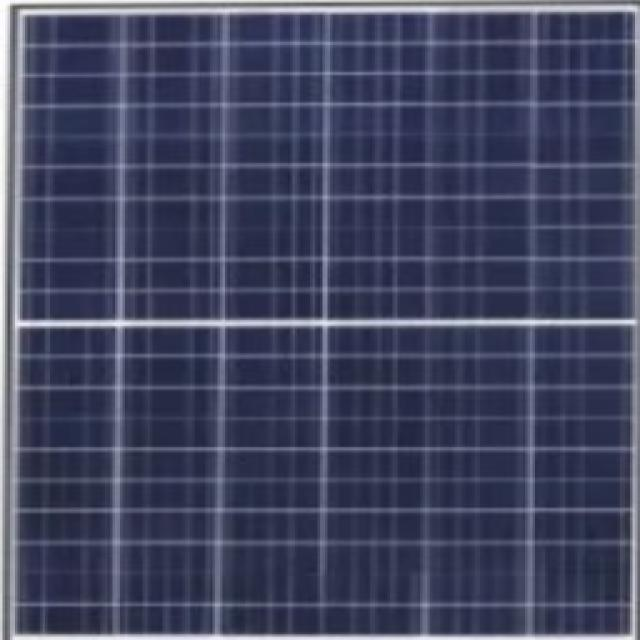clean-solar-panel: (17, 8, 631, 640)
